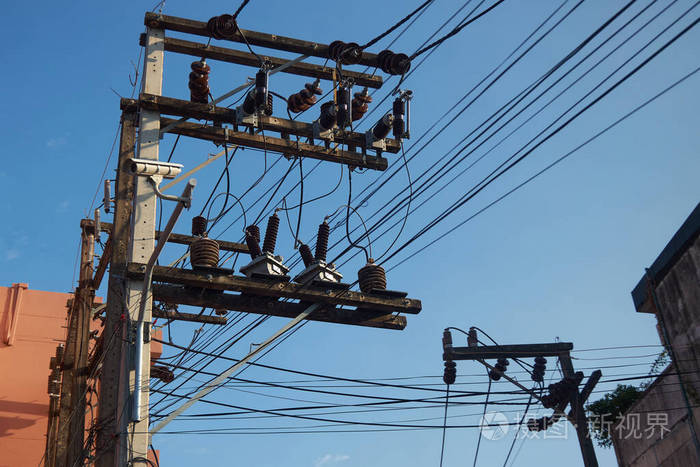insulator: (286, 84, 318, 114), (204, 15, 240, 41), (188, 60, 210, 99), (330, 38, 364, 63), (379, 49, 410, 76), (351, 94, 374, 122), (530, 358, 548, 385), (490, 360, 510, 382), (443, 360, 459, 386)
